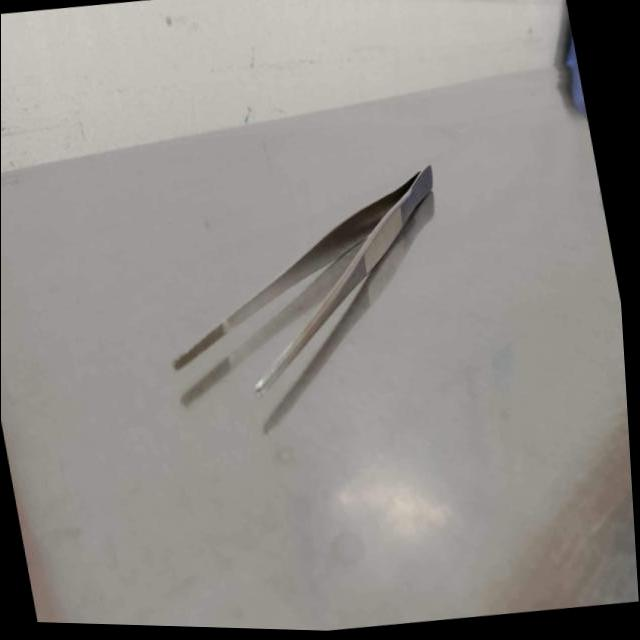Infectious: (172, 166, 437, 436)
Pathological: (3, 9, 636, 634)
